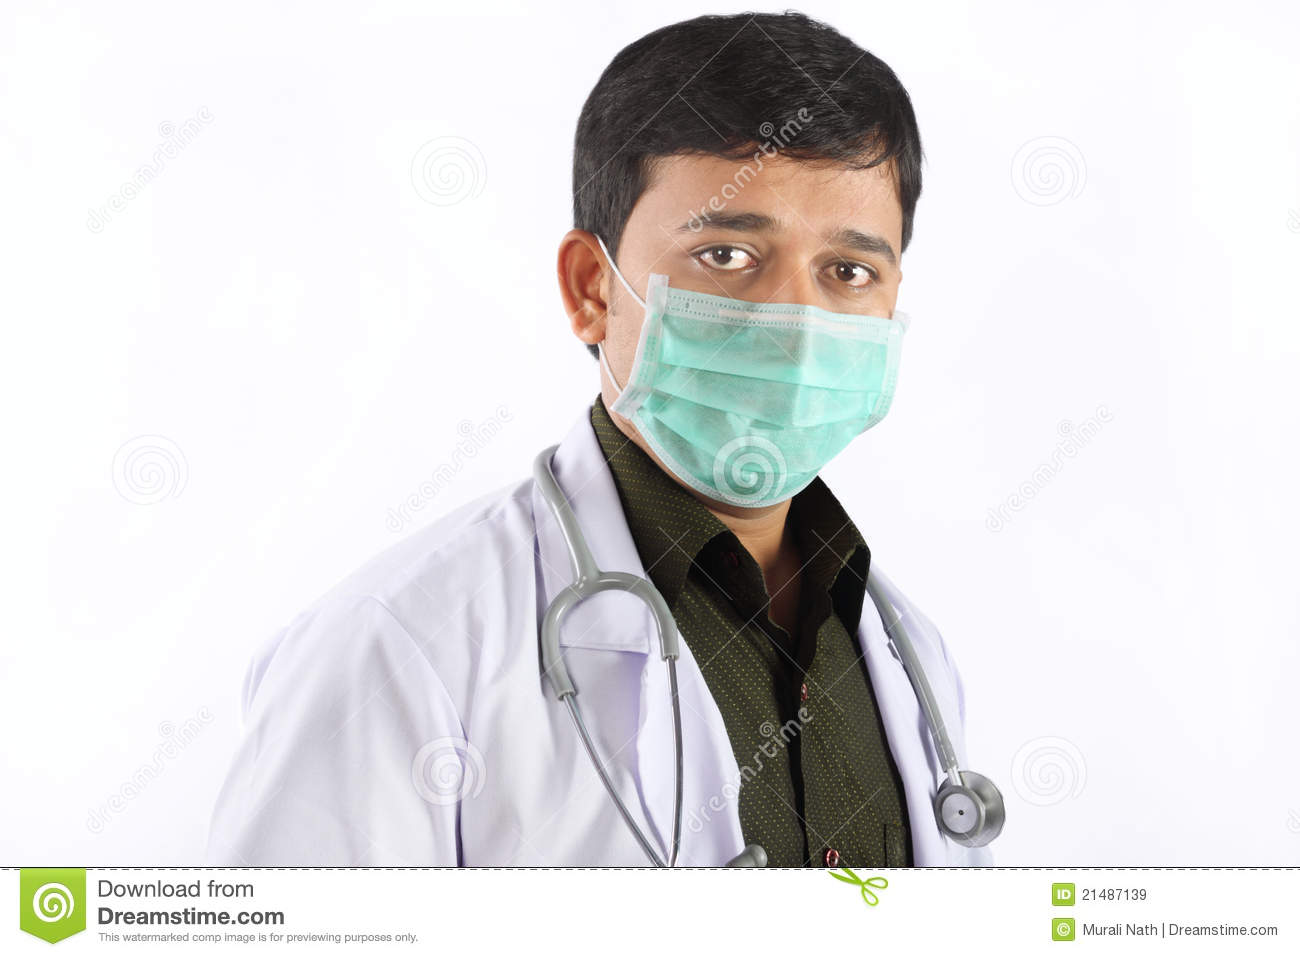mask: (629, 271, 907, 524)
